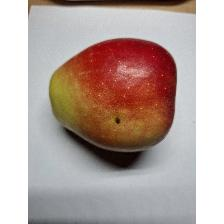Apfel: (41, 34, 181, 156)
